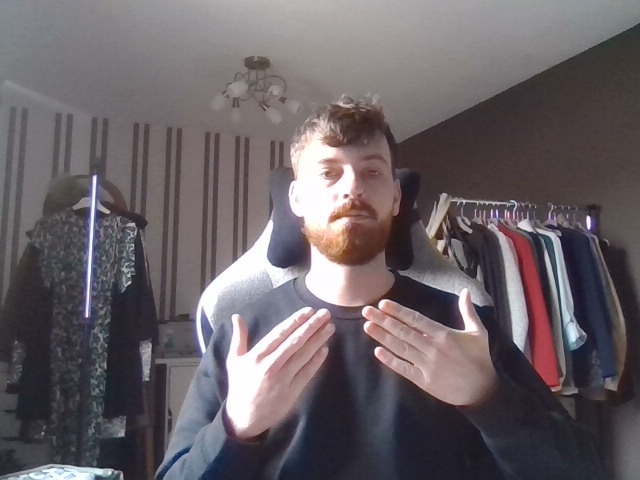Thanks: (217, 289, 499, 434)
